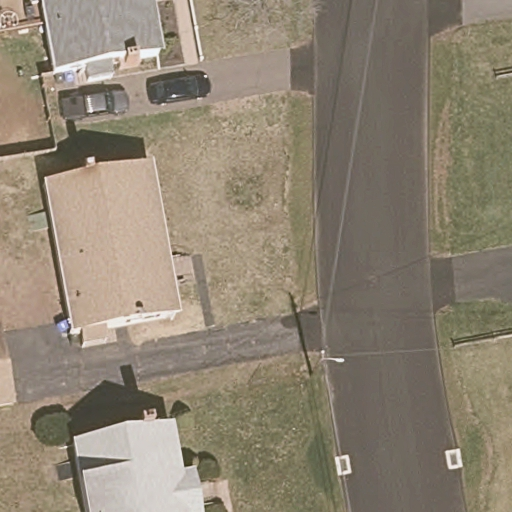DT: (311, 347, 345, 375)
